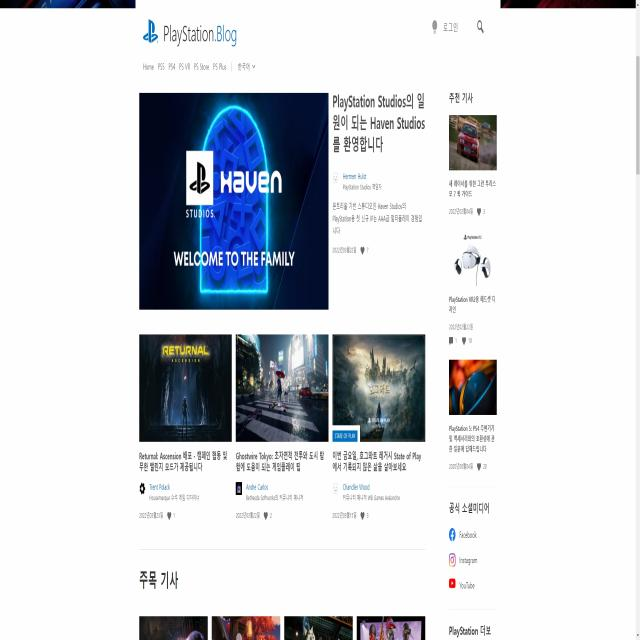menu-bar: (428, 10, 490, 46)
side-panel: (443, 75, 503, 639)
tab-bar: (141, 59, 260, 81)
